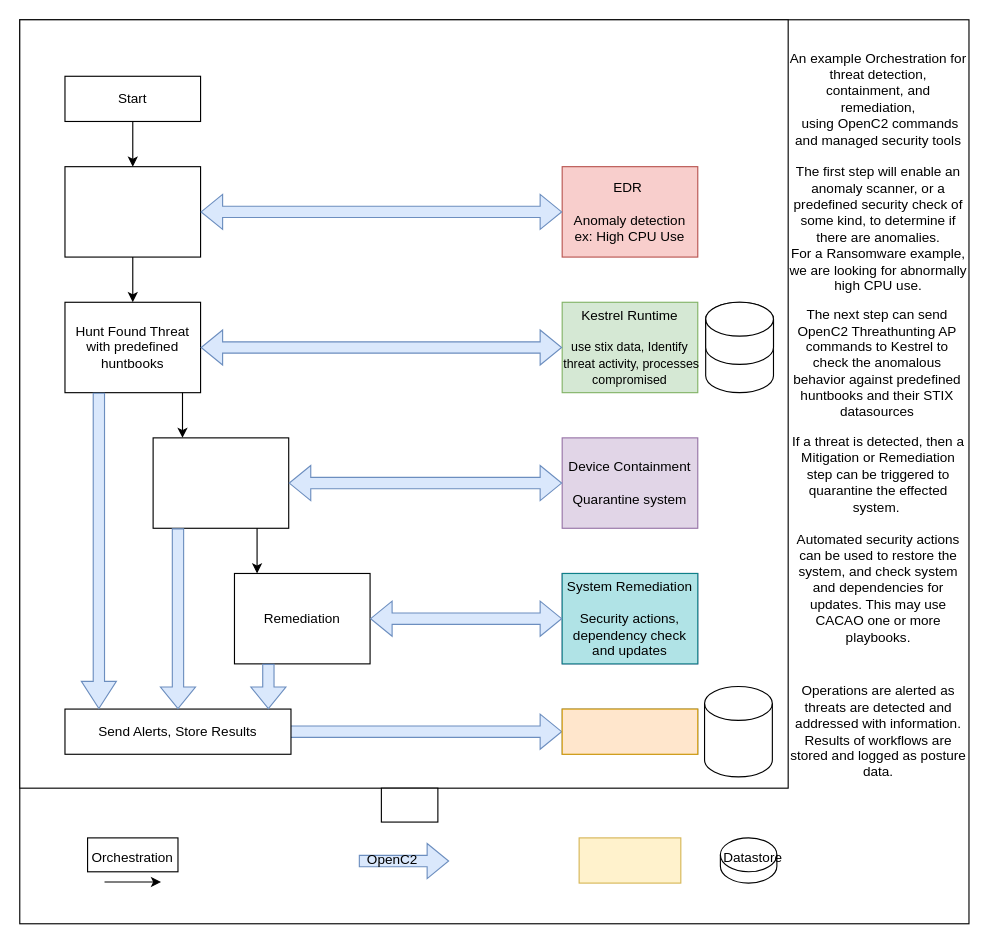
The diagram is 989 pixels wide and 944 high, and some of its shapes have lost their labels. Here are the shapes that lost their labels. From the top down, the centre of each, then its label:
the point at 132,211: Anomalous Behavior Indicator of Concern
the point at 220,482: Containment
the point at 629,731: Posture Repository (DB)
the point at 409,804: Key
the point at 629,860: Managed Function
